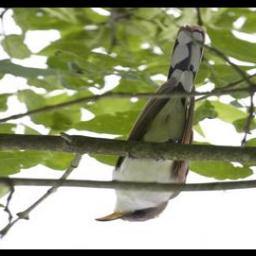Cuckoo: (93, 25, 206, 224)
